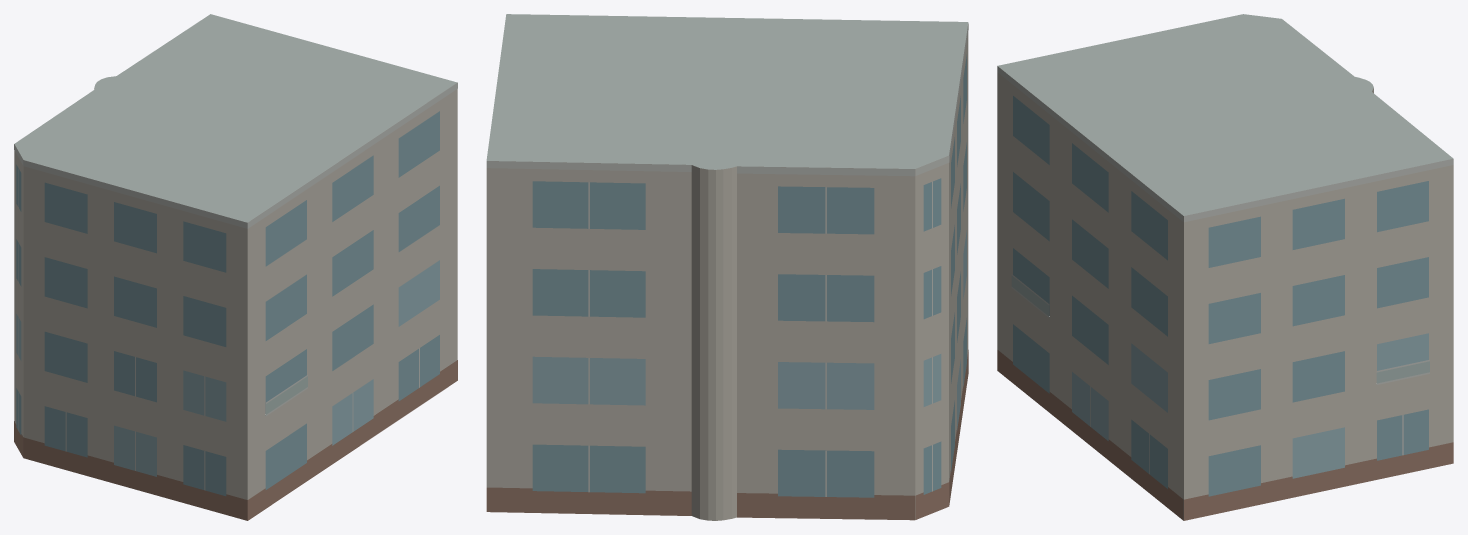
Rendered from survey-upis-32949922.glb.
3 views of the same model, side by side, from view 1: azimuth 30°, elevation 25°; view 2: azimuth 150°, elevation 25°; view 3: azimuth 270°, elevation 25° (orthographic). The views are drawn at different scales.
Parts seen in each view (by area): view 1: survey-upis-32949922.tmp; view 2: survey-upis-32949922.tmp; view 3: survey-upis-32949922.tmp.
Part boxes in pixels (x1,y1,x2,y2): survey-upis-32949922.tmp: (14,14,457,520); survey-upis-32949922.tmp: (486,14,968,520); survey-upis-32949922.tmp: (997,14,1453,520).
Size of the model in its own units: 16.93 by 11.9 by 16.16.
